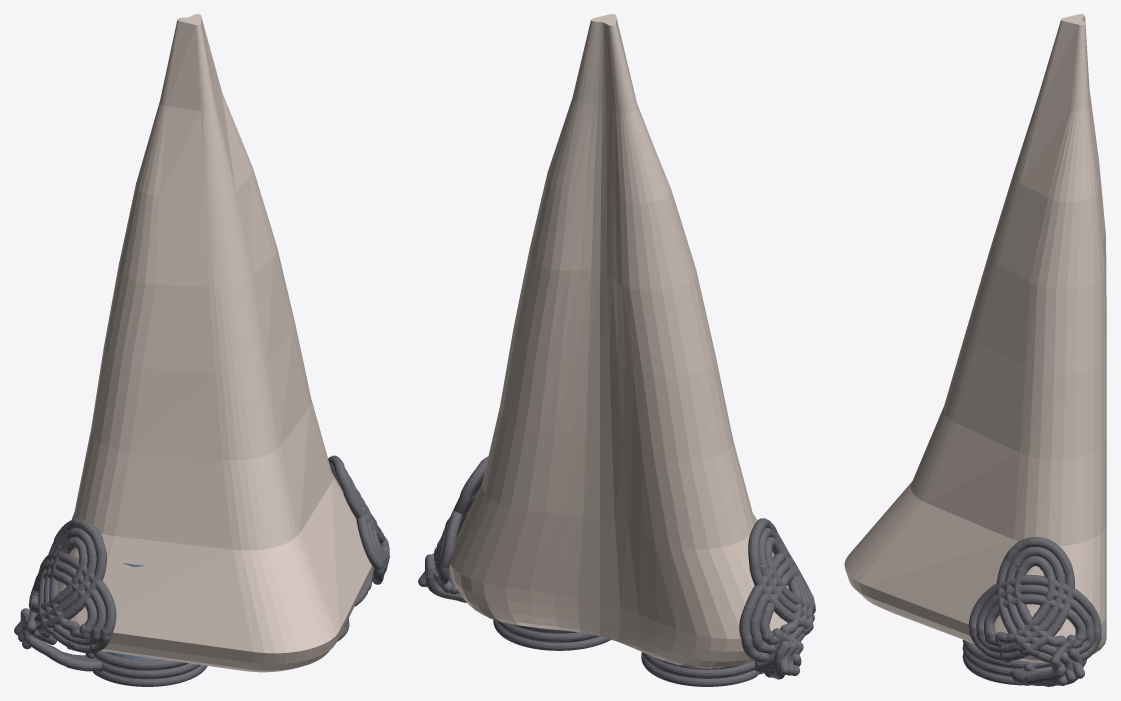
File: candidate_presence.glb
3 renders of one model, left to right at view 1: azimuth 30°, elevation 25°; view 2: azimuth 150°, elevation 25°; view 3: azimuth 270°, elevation 25°, orthographic. The views are drawn at different scales.
Parts seen in each view (by area): view 1: body, frame_mizuhiki_left, frame_mizuhiki_right; view 2: body, frame_mizuhiki_left, frame_mizuhiki_right; view 3: body, frame_mizuhiki_right.
Boxes of the visible parts, x1,y1,x2,y2 form: body: (59,14,372,672); frame_mizuhiki_left: (14,518,207,686); frame_mizuhiki_right: (328,455,389,641); body: (449,14,788,668); frame_mizuhiki_left: (641,518,815,686); frame_mizuhiki_right: (418,456,610,650); body: (844,14,1106,663); frame_mizuhiki_right: (962,537,1101,686).
Bounding box in the file's own units: 35.22 × 57.99 × 22.75.
